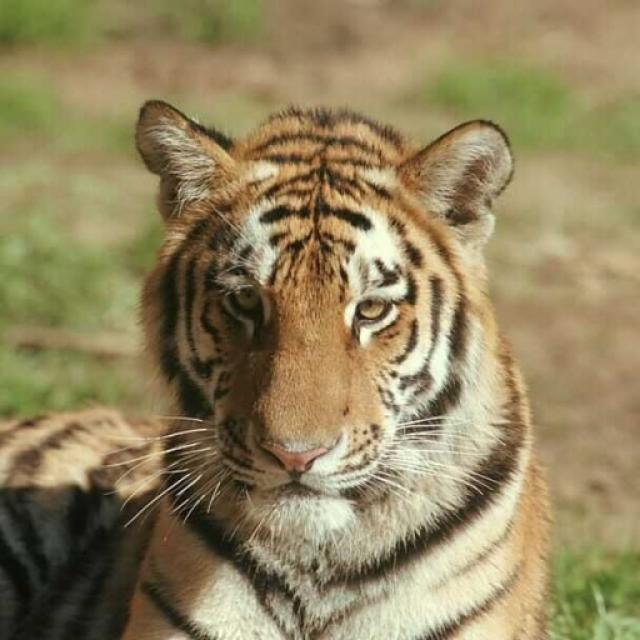tiger: (0, 97, 557, 639)
